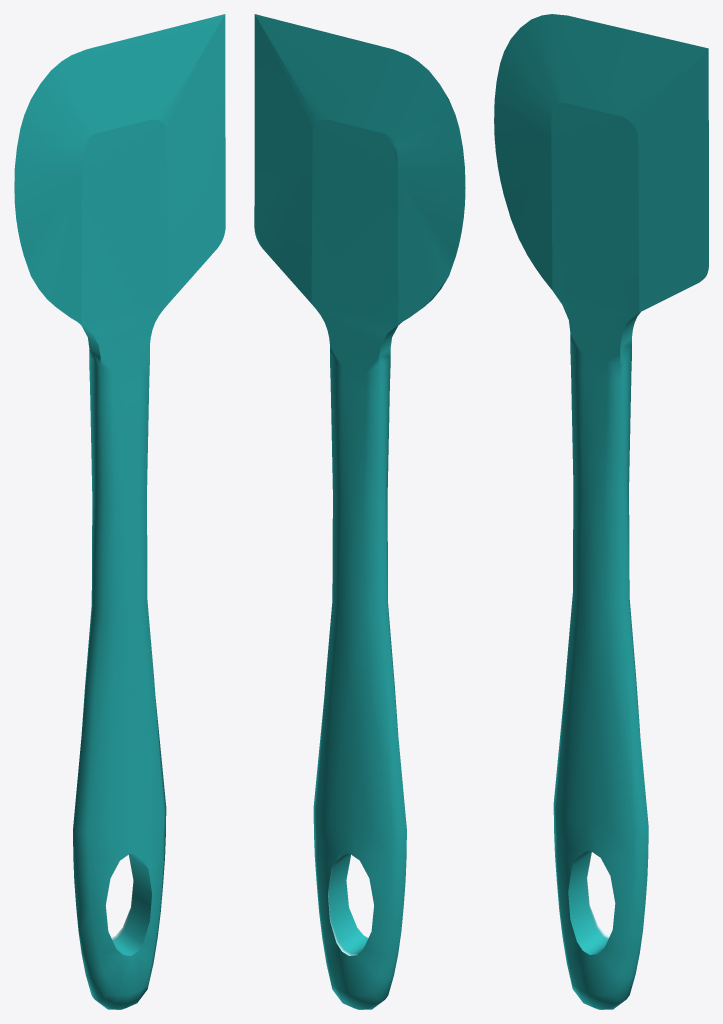
Rendered from spatula.obj.
3 renders of one model, left to right at view 1: azimuth 30°, elevation 25°; view 2: azimuth 150°, elevation 25°; view 3: azimuth 330°, elevation 25°, orthographic.
Visible parts, largest first — view 1: スパチュラ_mesh.001; view 2: スパチュラ_mesh.001; view 3: スパチュラ_mesh.001.
Boxes of the visible parts, x1,y1,x2,y2 form: スパチュラ_mesh.001: (14, 14, 225, 1009); スパチュラ_mesh.001: (254, 14, 465, 1009); スパチュラ_mesh.001: (494, 14, 708, 1009).
Size of the model in its own units: 0.0596 by 0.2612 by 0.011.
1 material, 1 textured.
